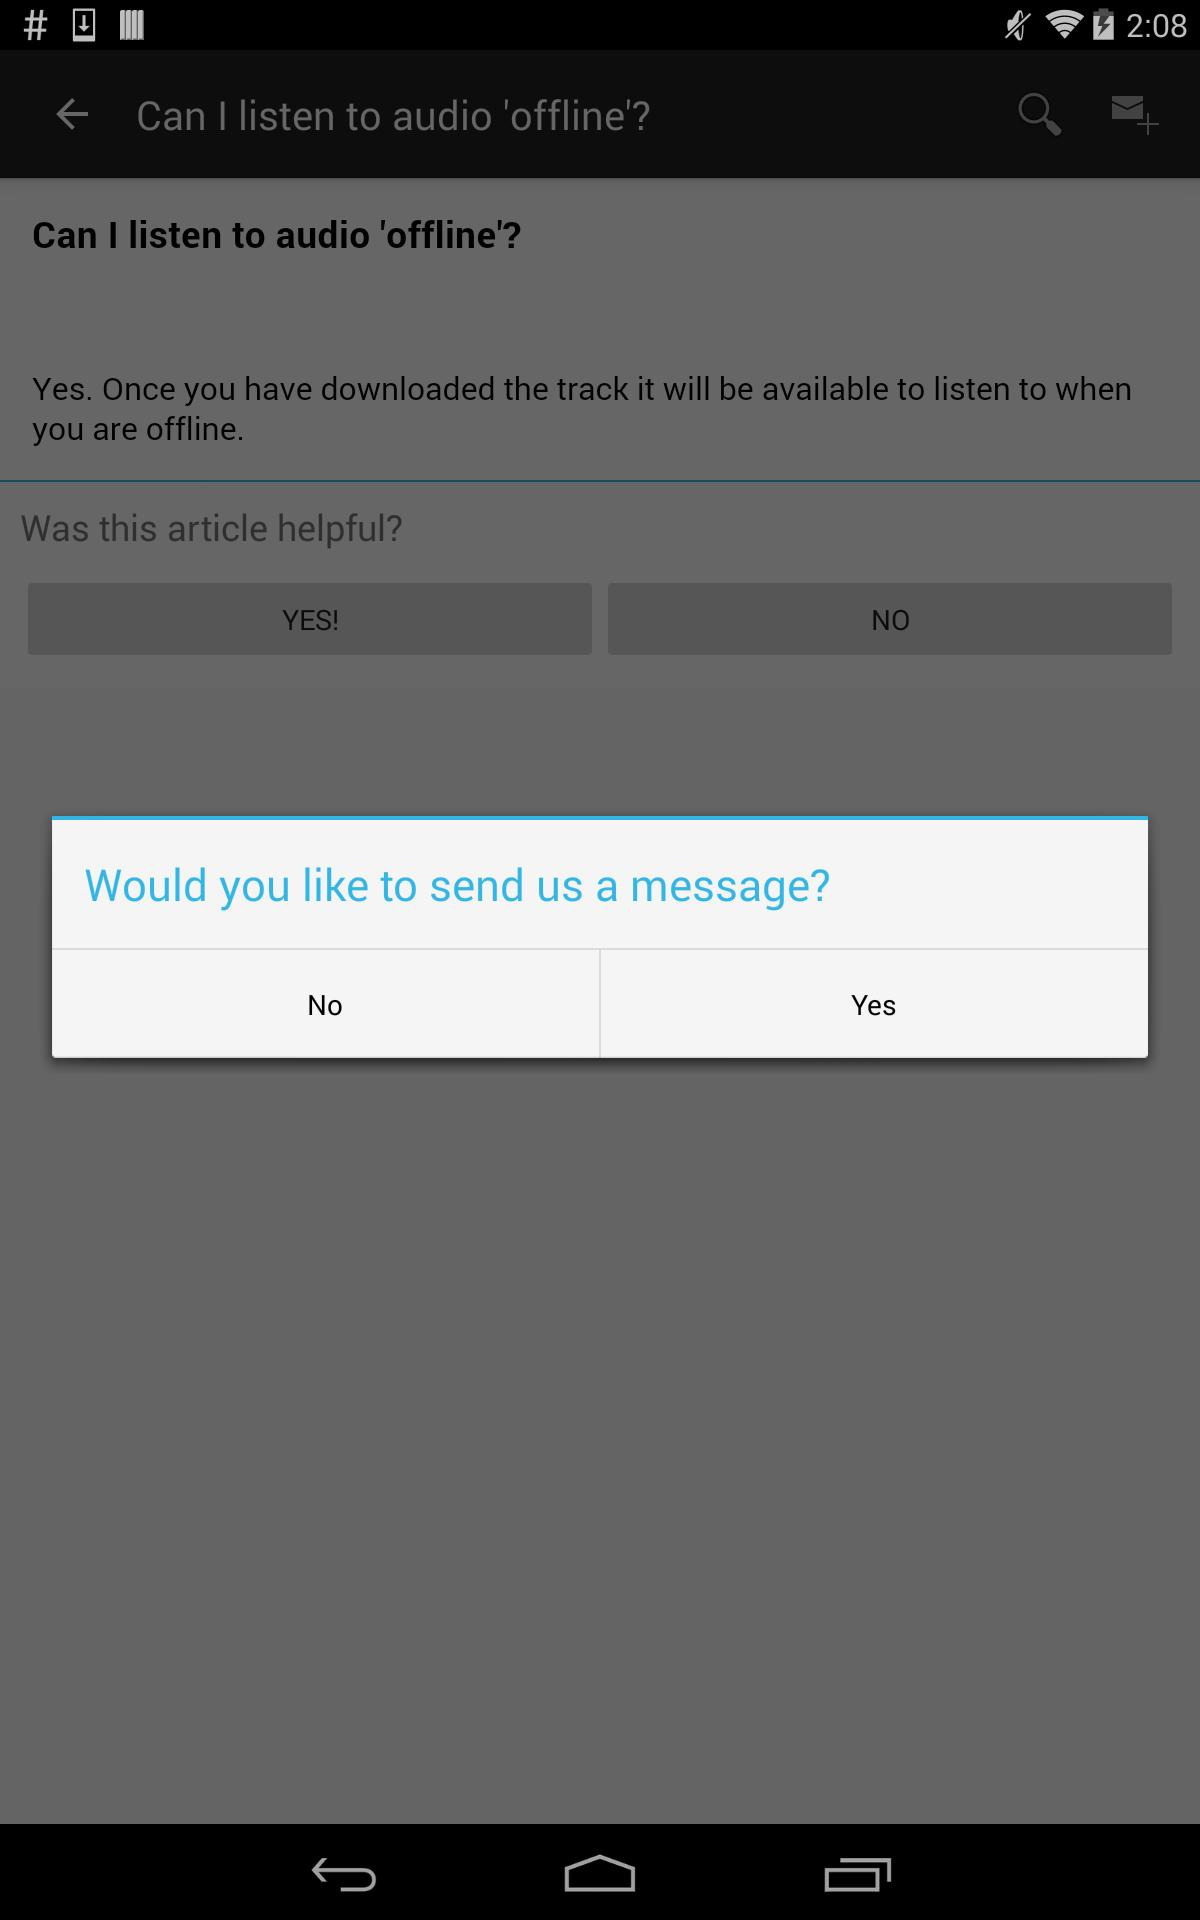android.view.View: (53, 816, 1147, 820)
android.widget.Button: (53, 950, 599, 1057), (601, 950, 1147, 1057)
android.widget.FrameLayout: (19, 800, 1181, 1074)
android.widget.LinearLayout: (36, 800, 1164, 1074), (36, 800, 1164, 948), (36, 948, 1164, 1074), (84, 820, 1116, 948), (53, 950, 1147, 1057)
android.widget.TextView: (84, 854, 1116, 912)
